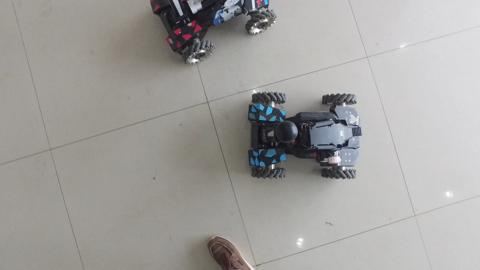chariot: (244, 82, 366, 188), (142, 1, 283, 70)
